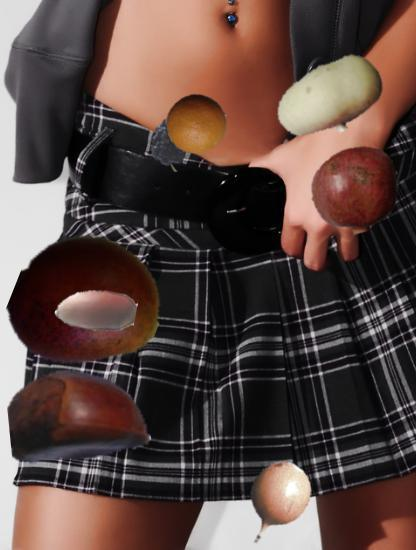Chestnut: (8, 345, 149, 486)
Granadilla: (229, 458, 319, 548)
Hazelnut: (56, 270, 136, 350)
Mango: (14, 230, 162, 378)
Mulberry: (138, 108, 203, 173)
Orange: (166, 93, 228, 155)
Peach: (275, 43, 386, 154)
Pomegranate: (311, 146, 401, 236)
